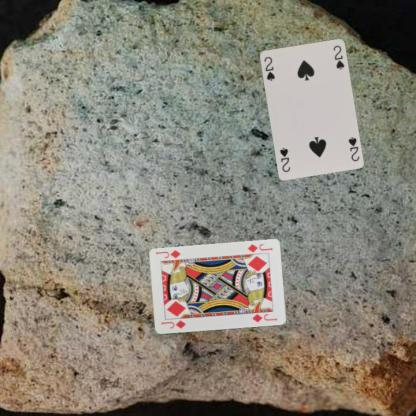2s: (261, 54, 276, 82), (345, 134, 360, 162)
Jd: (244, 242, 274, 254), (158, 318, 187, 330)
